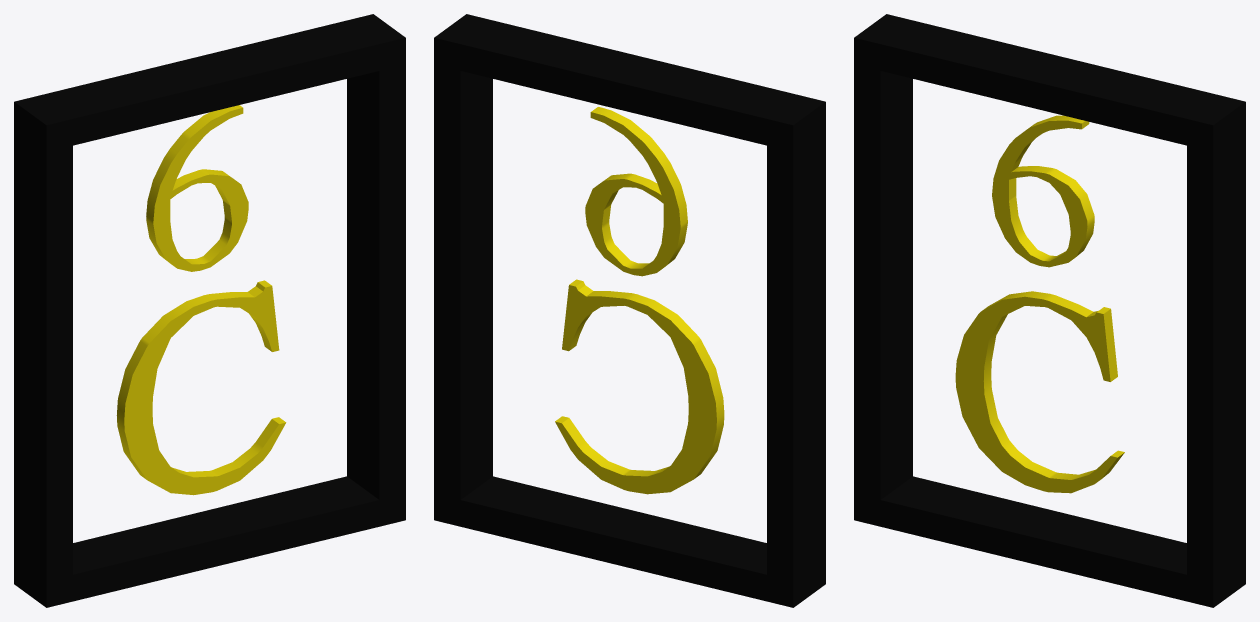
File: carbonTable.fbx
The picture shows the model from 3 angles, left to right: view 1: azimuth 30°, elevation 25°; view 2: azimuth 150°, elevation 25°; view 3: azimuth 330°, elevation 25°; orthographic projection.
Parts seen in each view (by area): view 1: pCube3, Trim_Char_C_4_1, Trim_Char_x_1_1; view 2: pCube3, Trim_Char_C_4_1, Trim_Char_x_1_1; view 3: pCube3, Trim_Char_C_4_1, Trim_Char_x_1_1.
Part boxes in pixels (<box>): pCube3: <box>14,14,405,607</box>; Trim_Char_C_4_1: <box>116,280,286,495</box>; Trim_Char_x_1_1: <box>146,105,248,271</box>; pCube3: <box>434,14,825,607</box>; Trim_Char_C_4_1: <box>555,279,724,494</box>; Trim_Char_x_1_1: <box>585,107,687,276</box>; pCube3: <box>854,14,1245,607</box>; Trim_Char_C_4_1: <box>955,291,1124,493</box>; Trim_Char_x_1_1: <box>992,115,1094,267</box>.
Bounding box in the file's own units: 0.064 × 0.0822 × 0.01.
